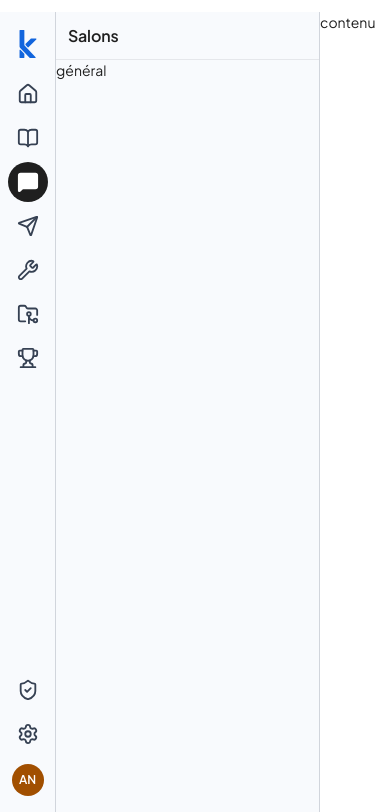
Test case: cadre de bureau › replie et rouvre le panneau par l'icône de la section ouverte
Later steps or results of the test are not shown.
Click the button named "Salons" at (28, 182), box [8, 162, 48, 202]
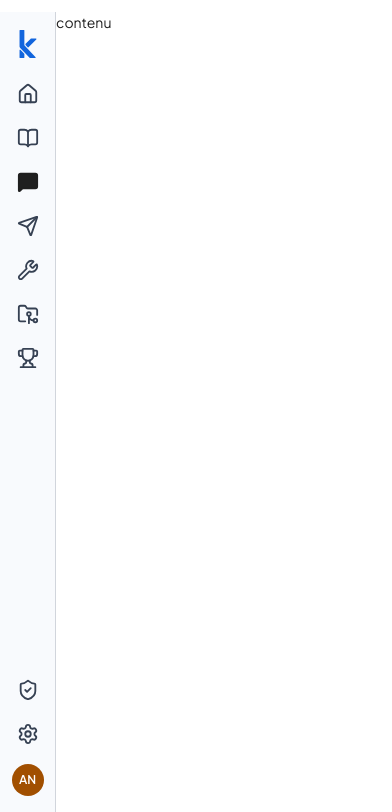
Check: the button named "Salons" is collapsed, box [8, 162, 48, 202]
